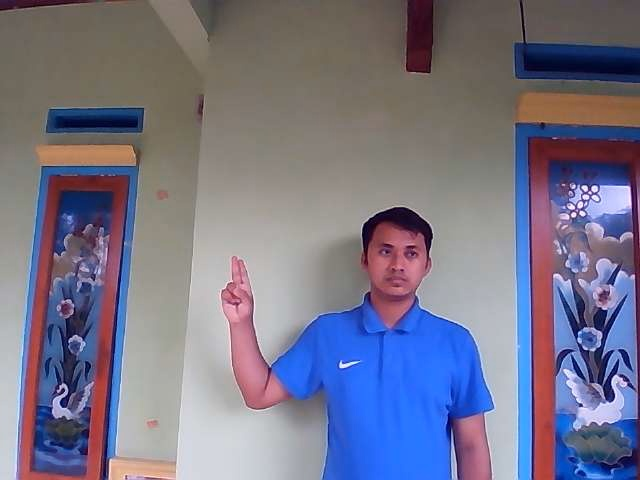U: (220, 254, 255, 322)
